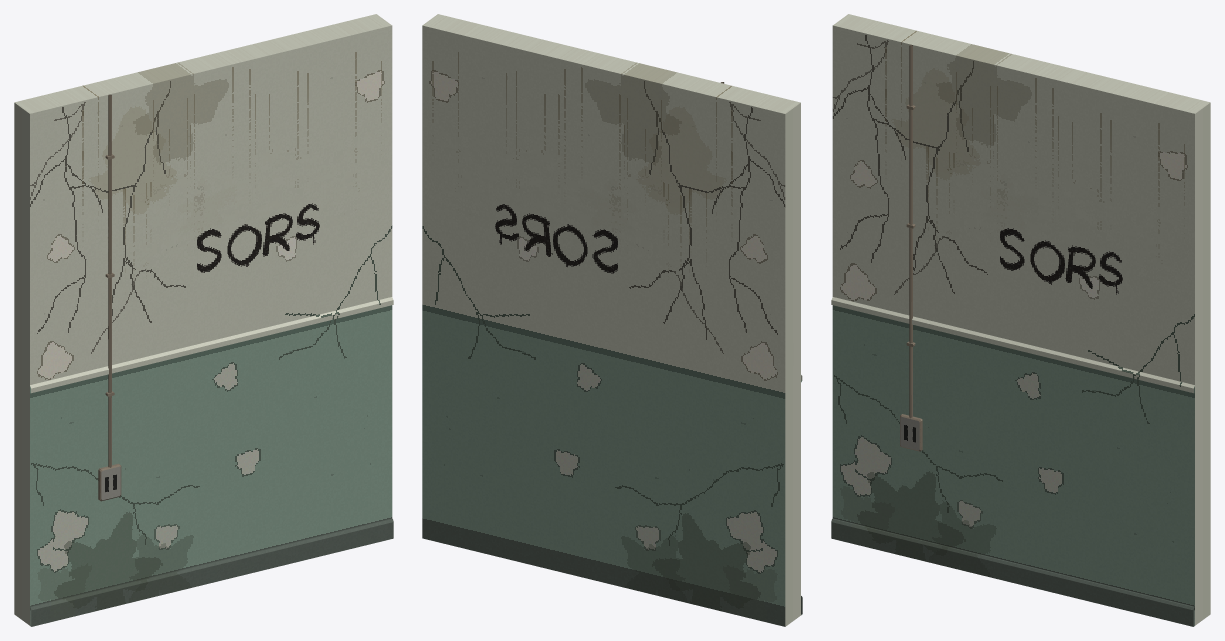
The model's file is wall_4_sors.glb.
3 views of the same model, side by side, from view 1: azimuth 30°, elevation 25°; view 2: azimuth 150°, elevation 25°; view 3: azimuth 330°, elevation 25° (orthographic).
Parts seen in each view (by area): view 1: wall_body, conduit_pipe, outlet_box; view 2: wall_body; view 3: wall_body, conduit_pipe, outlet_box.
Boxes of the visible parts, x1,y1,x2,y2 form: wall_body: (14, 14, 393, 626); conduit_pipe: (108, 94, 111, 467); outlet_box: (98, 463, 121, 501); wall_body: (422, 14, 802, 626); wall_body: (831, 14, 1210, 626); conduit_pipe: (909, 44, 912, 418); outlet_box: (900, 414, 922, 451).
Bounding box in the file's own units: 2 × 2.7 × 0.17.
Materials: 1 (1 with a texture image).
